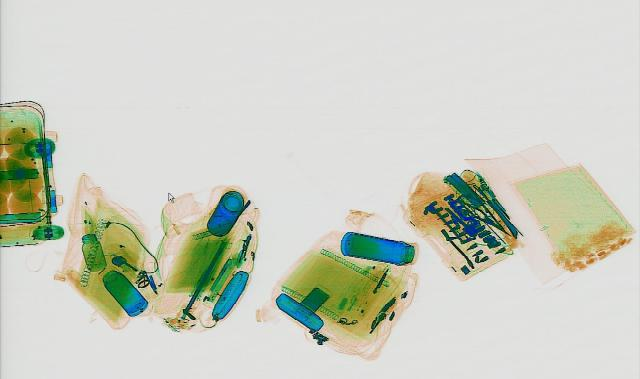Scissors: (440, 191, 518, 235)
